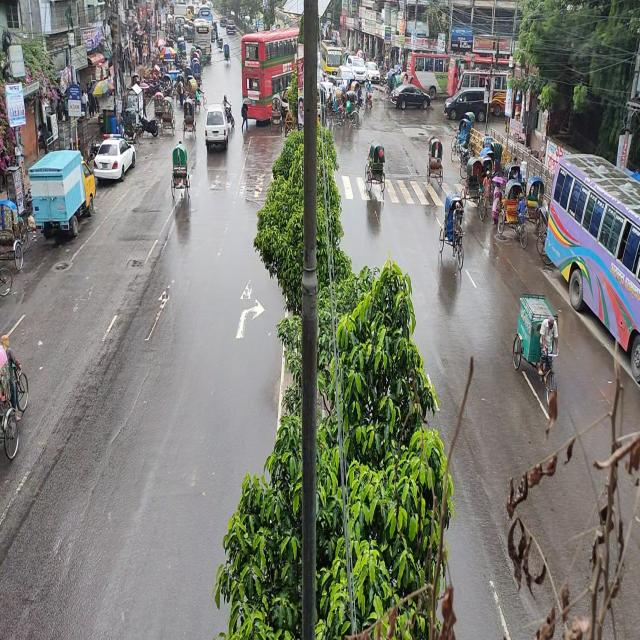black: (443, 87, 489, 123), (390, 82, 432, 117)
white: (94, 127, 135, 190), (205, 102, 229, 154)
